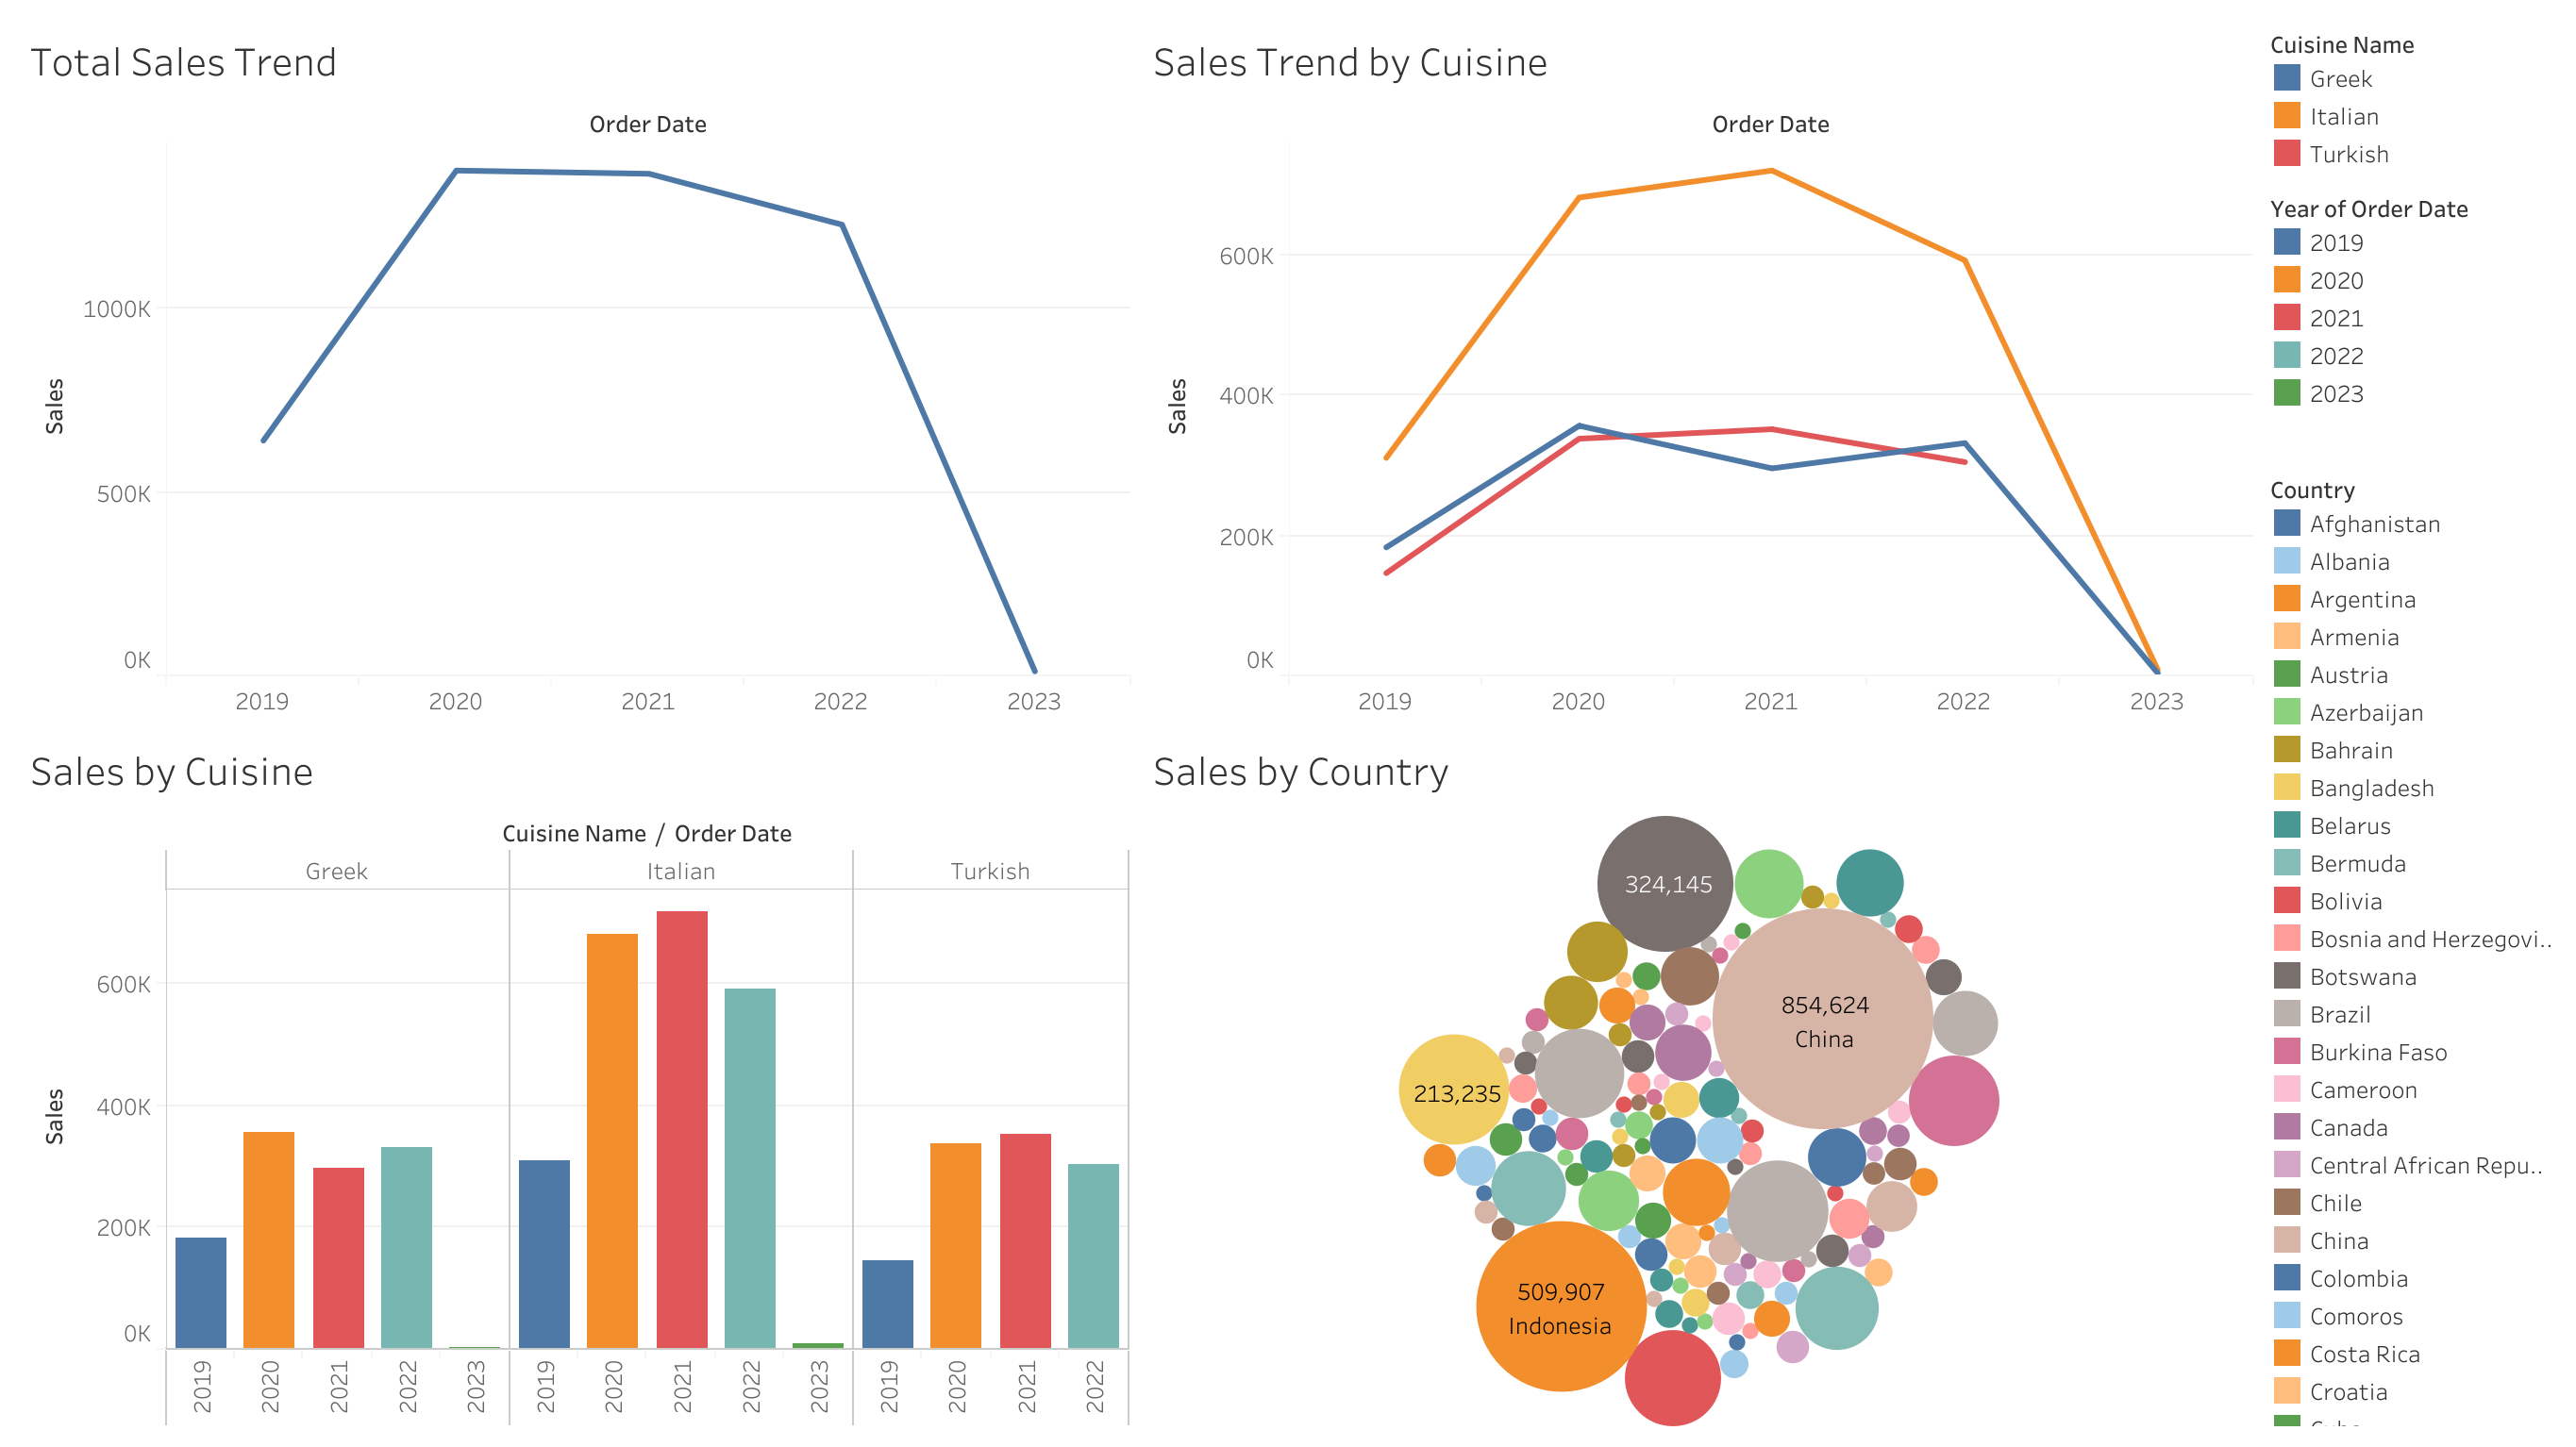

The dashboard page shown, as its layout file describes it:
{"tool":"tableau","page":{"name":"dashboard","canvas":[1366,768],"ordinal":0},"visuals":[{"type":"worksheet","title":"total sales trend","mark":"Automatic","rows":["Sales"],"cols":["Order Date"],"box":[8,8,595,376]},{"type":"worksheet","title":"sales trend by cuisine","mark":"Automatic","rows":["Sales"],"cols":["Order Date"],"box":[603,8,595,376]},{"type":"legend","title":"sales trend by cuisine","param":"[federated.1lyppqr0ycw8ve1c3z0zo0cgy0fu].[none:Cuisine Name:nk]","box":[1198,8,160,87]},{"type":"legend","title":"sales by cuisine","param":"[federated.1lyppqr0ycw8ve1c3z0zo0cgy0fu].[yr:Order Date:ok]","box":[1198,95,160,127]},{"type":"legend","title":"sales by country","param":"[federated.1lyppqr0ycw8ve1c3z0zo0cgy0fu].[sum:Sales:qk]","box":[1198,222,160,22]},{"type":"legend","title":"sales by country","param":"[federated.1lyppqr0ycw8ve1c3z0zo0cgy0fu].[none:Country:nk]","box":[1198,244,160,516]},{"type":"worksheet","title":"sales by cuisine","mark":"Bar","rows":["Sales"],"cols":["Cuisine Name","Order Date"],"box":[8,384,595,376]},{"type":"worksheet","title":"sales by country","mark":"Circle","box":[603,384,595,376]}]}

Visuals, with their boxes in screenshot pixels (x1, y1, x2, y2), scaled from the page's 1366x768 canvas onto the 2576x1447 screenshot:
"total sales trend" worksheet: BBox(15, 15, 1137, 723)
"sales trend by cuisine" worksheet: BBox(1137, 15, 2259, 723)
"sales trend by cuisine" legend: BBox(2259, 15, 2561, 179)
"sales by cuisine" legend: BBox(2259, 179, 2561, 418)
"sales by country" legend: BBox(2259, 418, 2561, 459)
"sales by country" legend: BBox(2259, 459, 2561, 1432)
"sales by cuisine" worksheet (Bar marks): BBox(15, 723, 1137, 1432)
"sales by country" worksheet (Circle marks): BBox(1137, 723, 2259, 1432)
